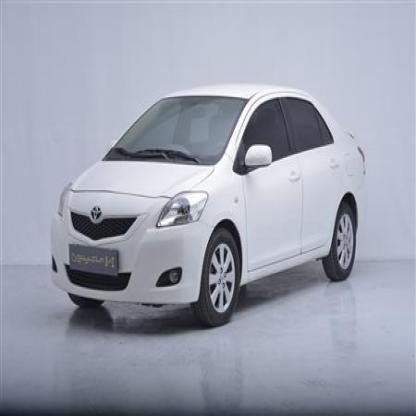Car: (49, 78, 372, 327)
